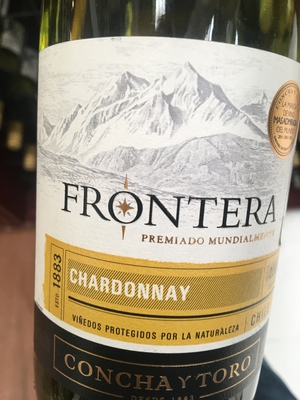frontera chardonnay: (35, 4, 300, 396)
